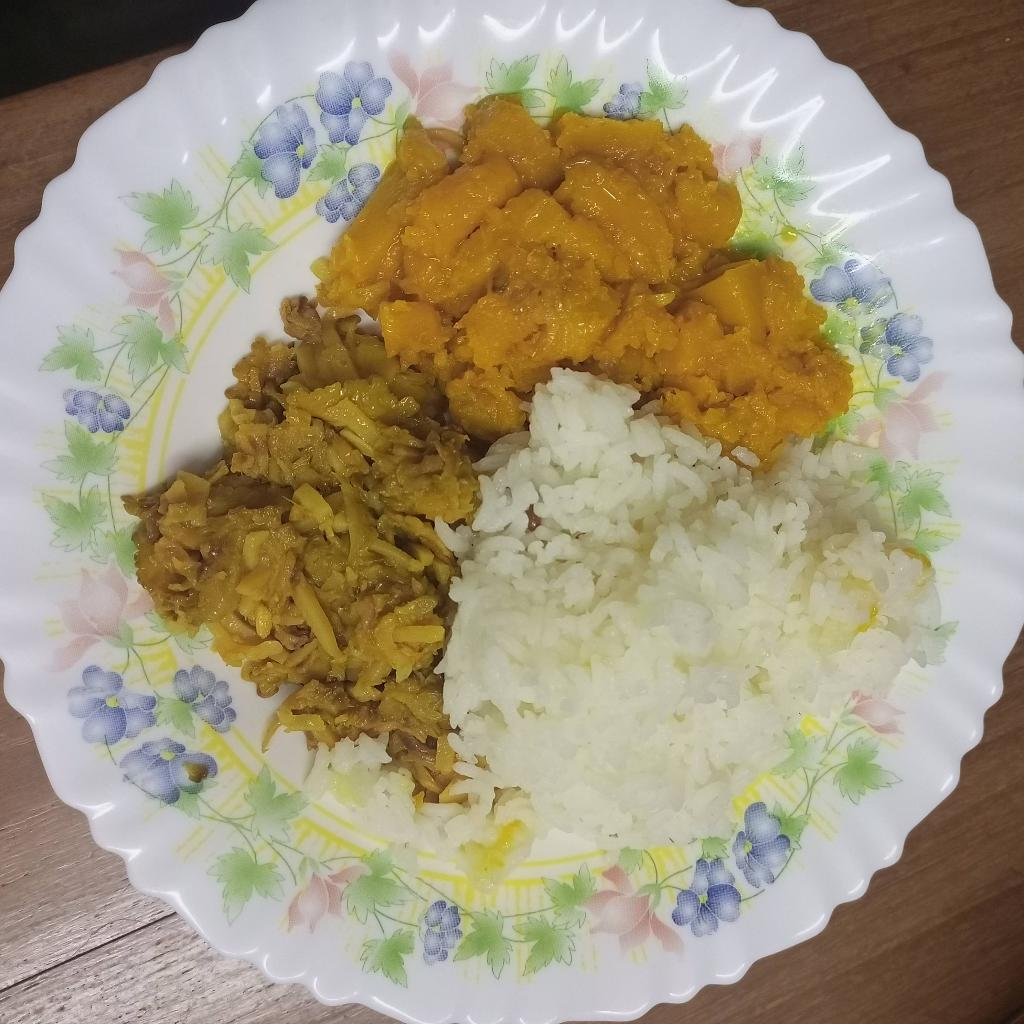kumra-vaji: (317, 97, 851, 457)
rice: (440, 369, 950, 851)
vaji: (122, 297, 479, 799)
